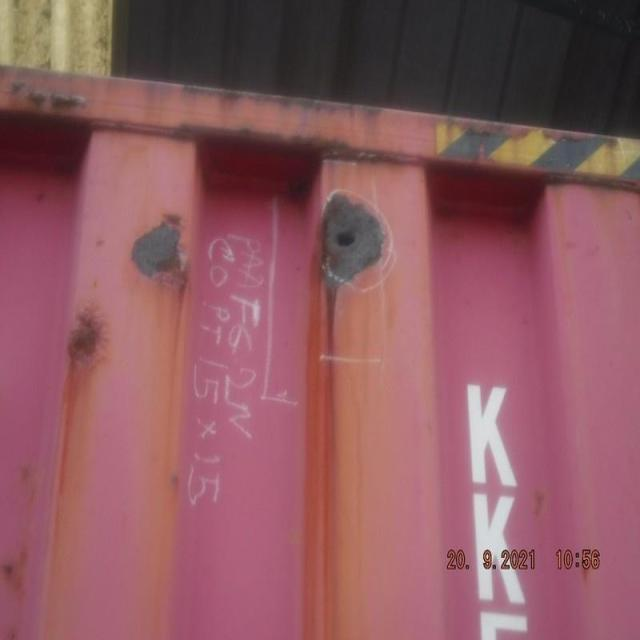rust: (316, 191, 389, 293), (130, 214, 193, 296), (67, 306, 109, 371)
